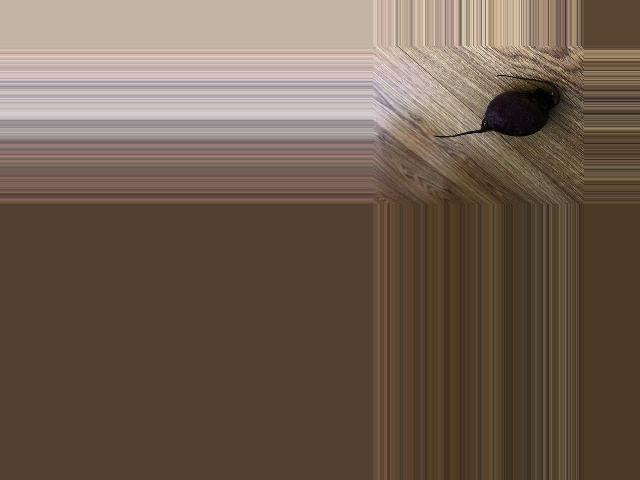beet: (433, 75, 559, 138)
